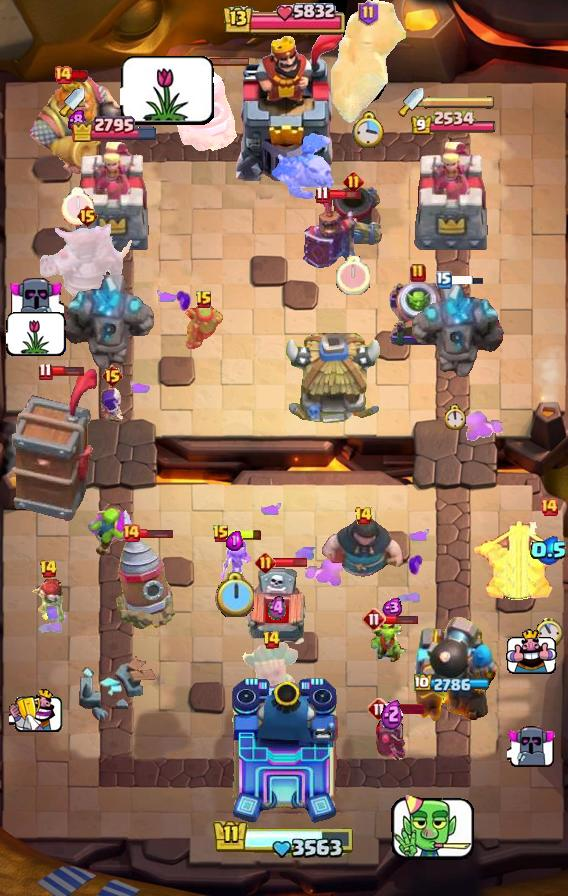bar: (73, 140, 155, 256), (412, 140, 494, 256)
battle-ram: (371, 710, 413, 764)
cannoneer-tower: (62, 275, 158, 373), (408, 283, 504, 381)
clock: (212, 819, 356, 861), (221, 0, 347, 40)
dart-goblin: (10, 367, 100, 523)
electro-spirit: (530, 535, 568, 564), (381, 698, 403, 730), (268, 594, 286, 621), (381, 598, 404, 617), (68, 109, 86, 131), (225, 530, 243, 551)
elixir: (215, 571, 254, 616), (61, 187, 95, 226), (336, 257, 370, 296), (351, 111, 384, 148), (535, 617, 563, 647), (445, 404, 467, 430)
elixir-golem-big: (303, 195, 359, 279)
elixir-golem-mid: (242, 567, 312, 653)
emote: (199, 56, 251, 67), (227, 527, 263, 540), (327, 188, 362, 201), (449, 274, 485, 286), (138, 527, 174, 539), (51, 365, 84, 377), (272, 556, 307, 567), (385, 614, 420, 625), (388, 704, 424, 714), (70, 69, 90, 81)
giant-skeleton: (23, 74, 131, 178)
giant-snowball: (183, 303, 225, 349)
goblin: (216, 539, 252, 579), (99, 386, 125, 422)
goblin-barrel: (242, 641, 300, 705)
goblin-cage: (386, 279, 450, 349)
golemite: (39, 220, 135, 306)
ice-golem: (29, 579, 67, 625)
king-tower: (223, 31, 345, 181), (228, 676, 340, 826)
king-tower-bar: (424, 95, 496, 109)
lava-pup: (470, 521, 568, 603)
magic-archer: (177, 58, 237, 152), (116, 536, 176, 630)
mini-pekka: (267, 132, 335, 206)
musketeer: (322, 181, 384, 249)
prince: (283, 333, 385, 429)
royal-hog: (320, 515, 406, 593)
selected: (69, 114, 158, 142), (411, 111, 498, 138), (414, 674, 492, 694)
skeleton: (121, 54, 216, 126), (388, 788, 475, 864), (8, 275, 64, 325), (6, 311, 66, 357), (507, 629, 558, 675), (9, 689, 63, 732), (508, 724, 557, 768)
text: (362, 607, 386, 631), (367, 697, 391, 721), (77, 204, 100, 228), (100, 364, 123, 388), (357, 0, 378, 26), (343, 171, 364, 193), (256, 551, 277, 573), (53, 65, 73, 85), (539, 497, 559, 517), (354, 506, 374, 526), (121, 523, 141, 543), (38, 559, 58, 579), (262, 630, 281, 650), (195, 290, 213, 310), (212, 524, 230, 544), (410, 263, 426, 283), (436, 271, 452, 289), (314, 185, 329, 203), (39, 363, 53, 382)
tower-bar: (403, 615, 503, 731)
wizard: (330, 0, 406, 126)
zap: (86, 506, 138, 556), (371, 622, 411, 664)
